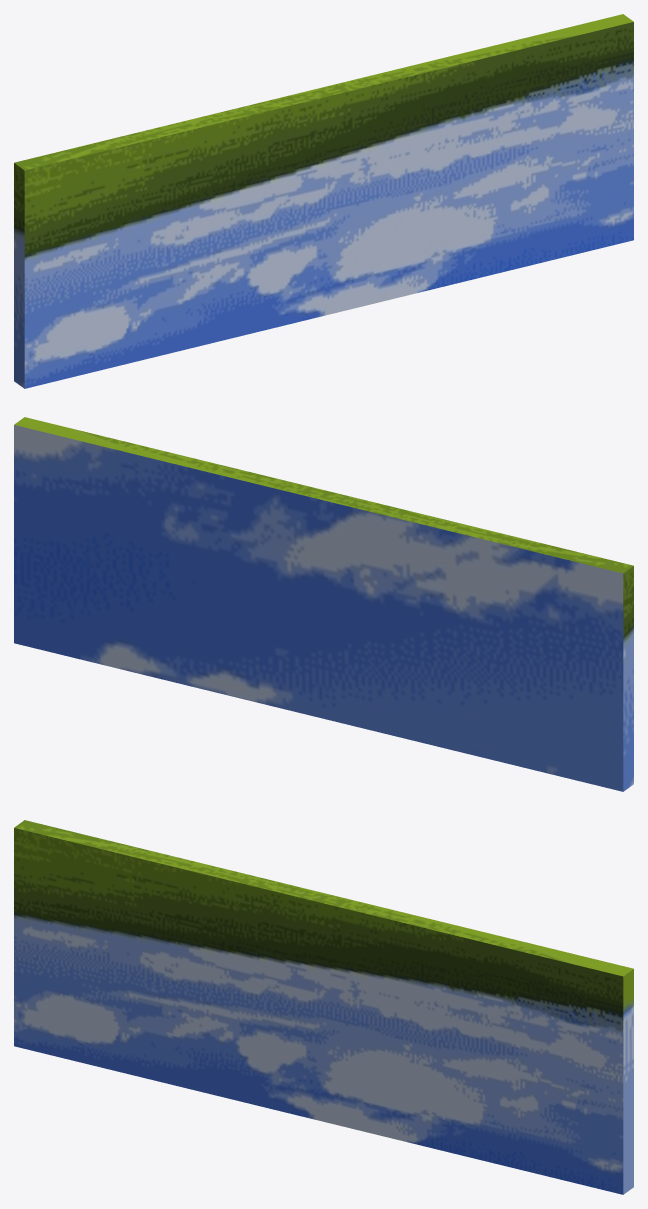
Rendered from firstLevelBackWall.fbx.
3 views of the same model, one above another, from view 1: azimuth 30°, elevation 25°; view 2: azimuth 150°, elevation 25°; view 3: azimuth 330°, elevation 25° (orthographic).
Visible parts, largest first — view 1: Wall_Back; view 2: Wall_Back; view 3: Wall_Back.
Boxes of the visible parts, x1=… form: Wall_Back: x1=14, y1=14, x2=633, y2=388; Wall_Back: x1=14, y1=417, x2=633, y2=791; Wall_Back: x1=14, y1=820, x2=633, y2=1194.
Bounding box in the file's own units: 6894 × 2362 × 209.
